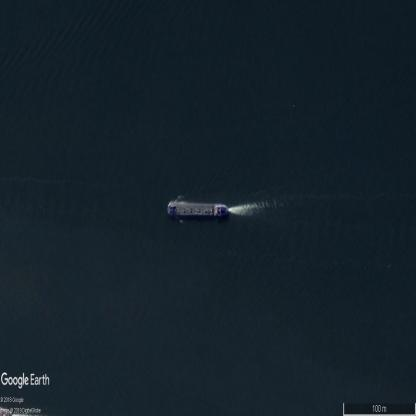ship: (168, 201, 229, 218)
